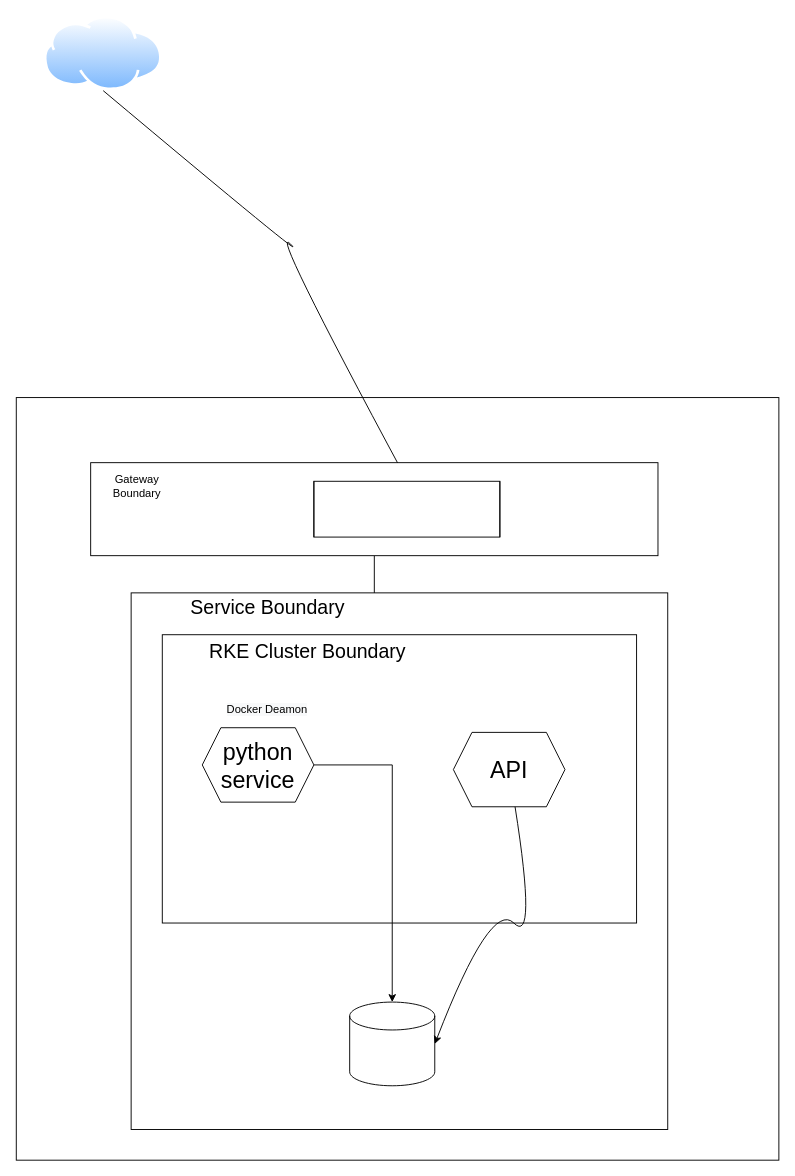
Image size: 795x1176. Some labels were removed from this diagram. Each missing label, with the centre of its shape:
API Gateway: (x=406, y=508)
DB: (x=392, y=1043)
